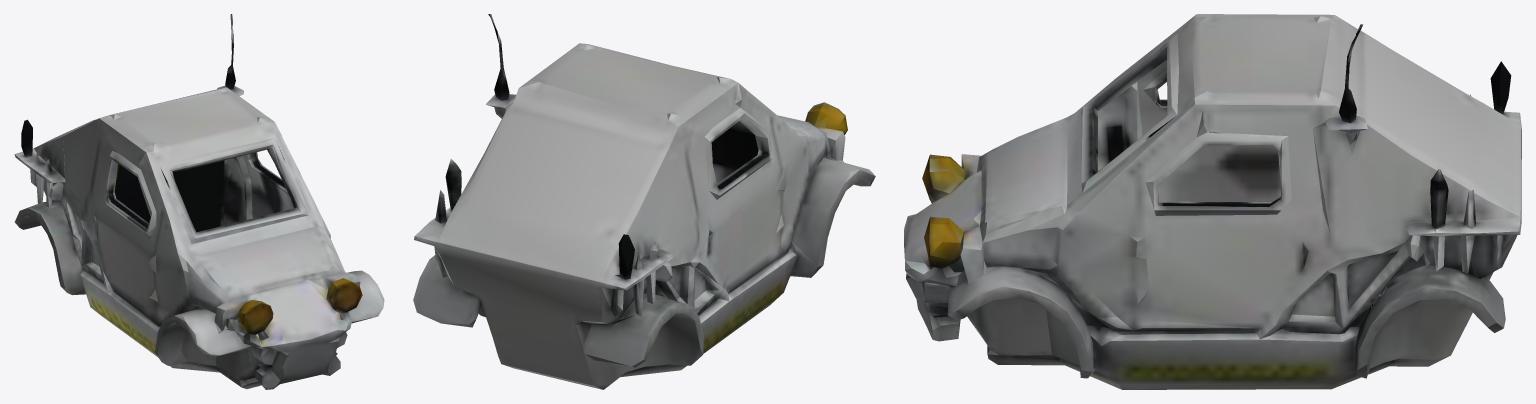
Rendered from scout-body.glb.
3 views of the same model, side by side, from view 1: azimuth 30°, elevation 25°; view 2: azimuth 150°, elevation 25°; view 3: azimuth 270°, elevation 25° (orthographic). The views are drawn at different scales.
Visible parts, largest first — view 1: low; view 2: low; view 3: low.
Boxes of the visible parts, box(x1,y1,x2,y2) form: low: box(14, 14, 384, 389); low: box(413, 14, 875, 389); low: box(904, 14, 1521, 389).
Size of the model in its own units: 1.62 by 2.14 by 3.2.
1 material, 1 textured.
